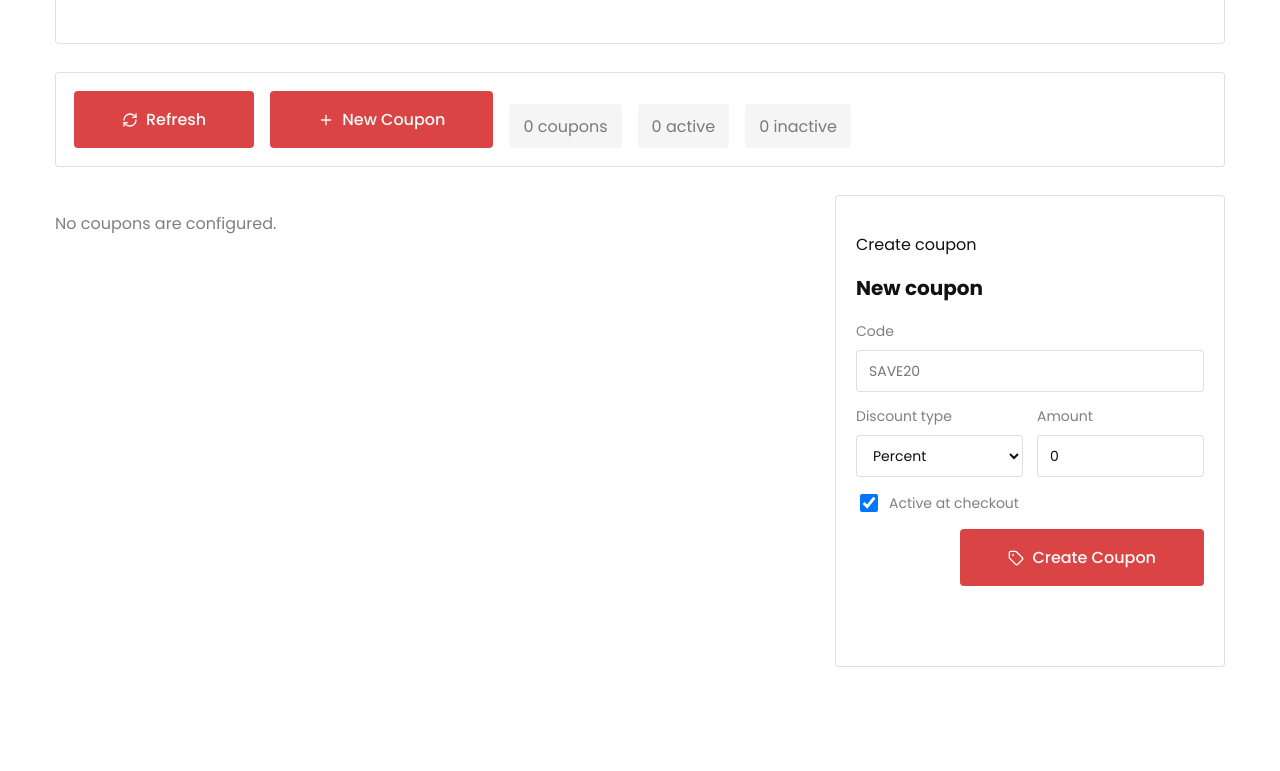
AdminCouponsPage › creates a fixed inactive coupon and renders the returned row
The image size is (1280, 771).
(page scrolled)
In the field labelled "Code": [1030, 371] box top-left (856, 350), bottom-right (1204, 392), type "vip25"
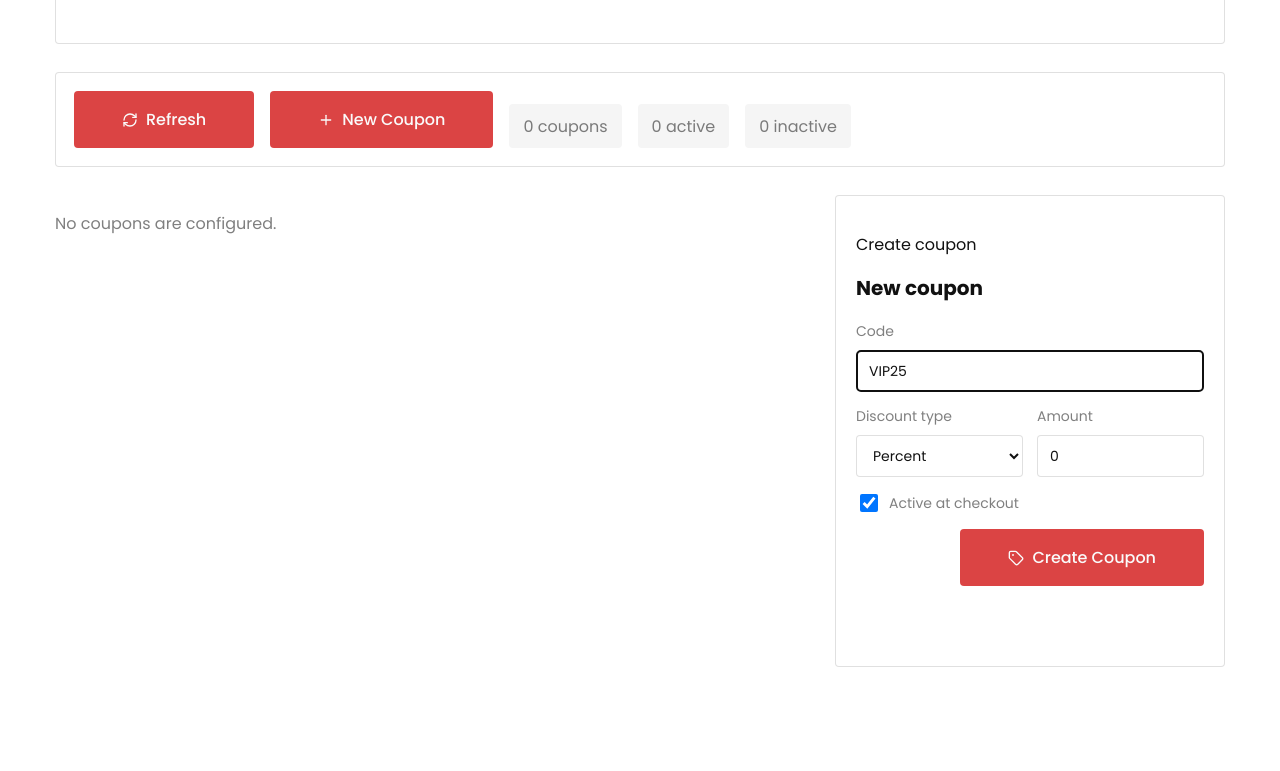
Select "Fixed amount" in the dropdown labelled "Discount type": [940, 456] box top-left (856, 435), bottom-right (1023, 477)
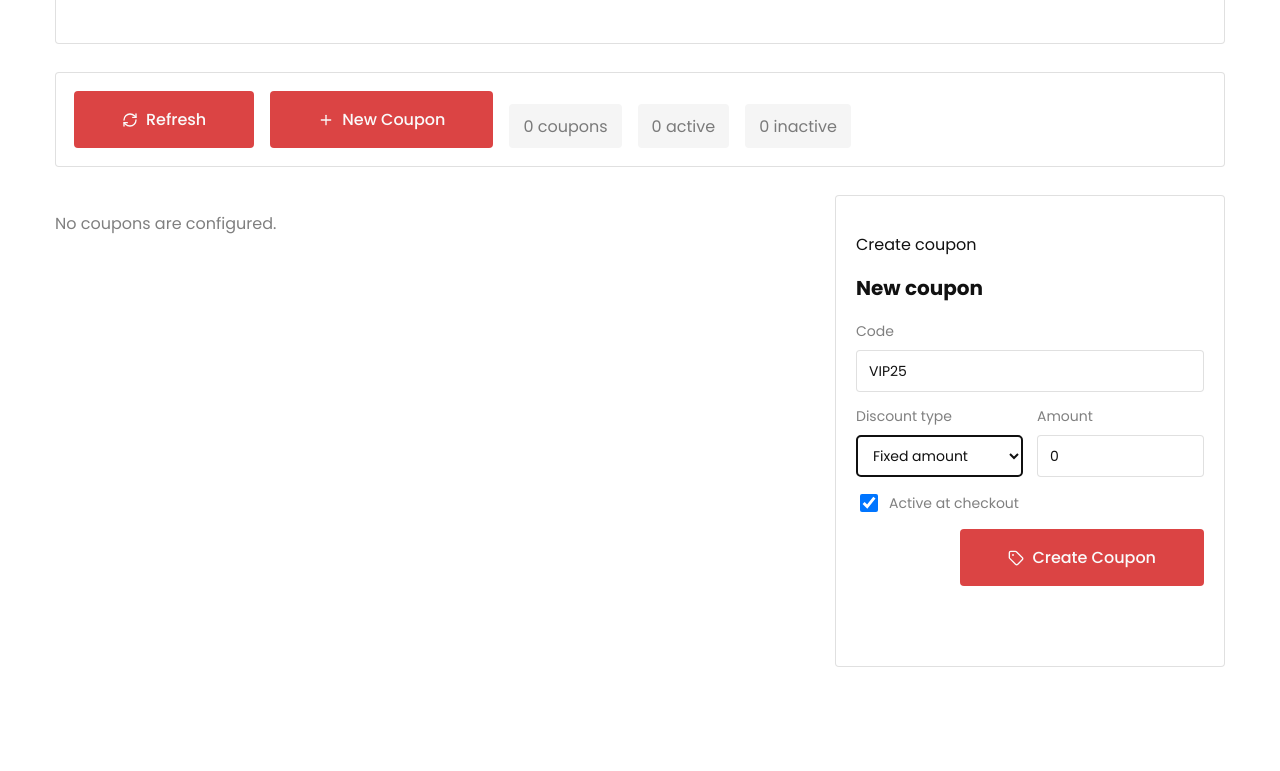
Replace the text in the number field labelled "Amount" with "25": [1120, 456] box top-left (1037, 435), bottom-right (1204, 477)
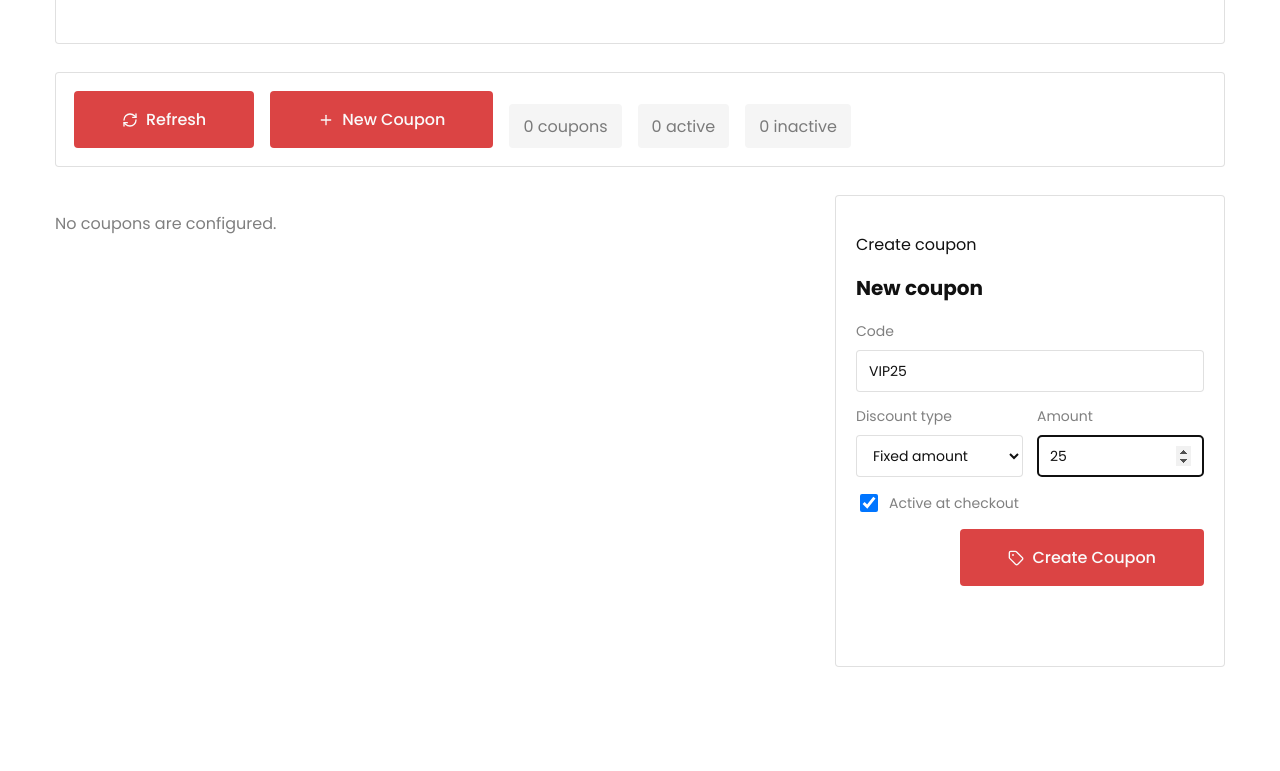
Click the checkbox labelled "Active at checkout": [869, 503] box top-left (860, 494), bottom-right (878, 512)
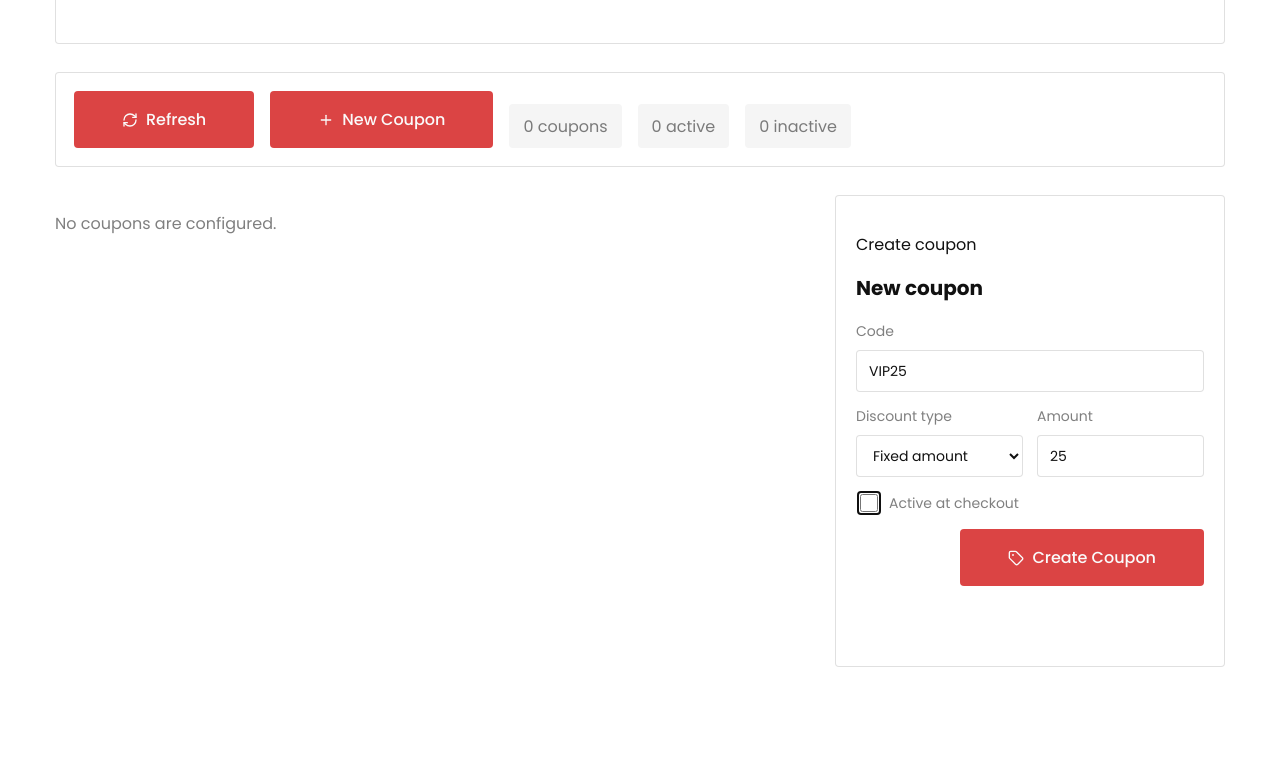
Click the button "Create Coupon": [1082, 558] box top-left (960, 529), bottom-right (1204, 586)
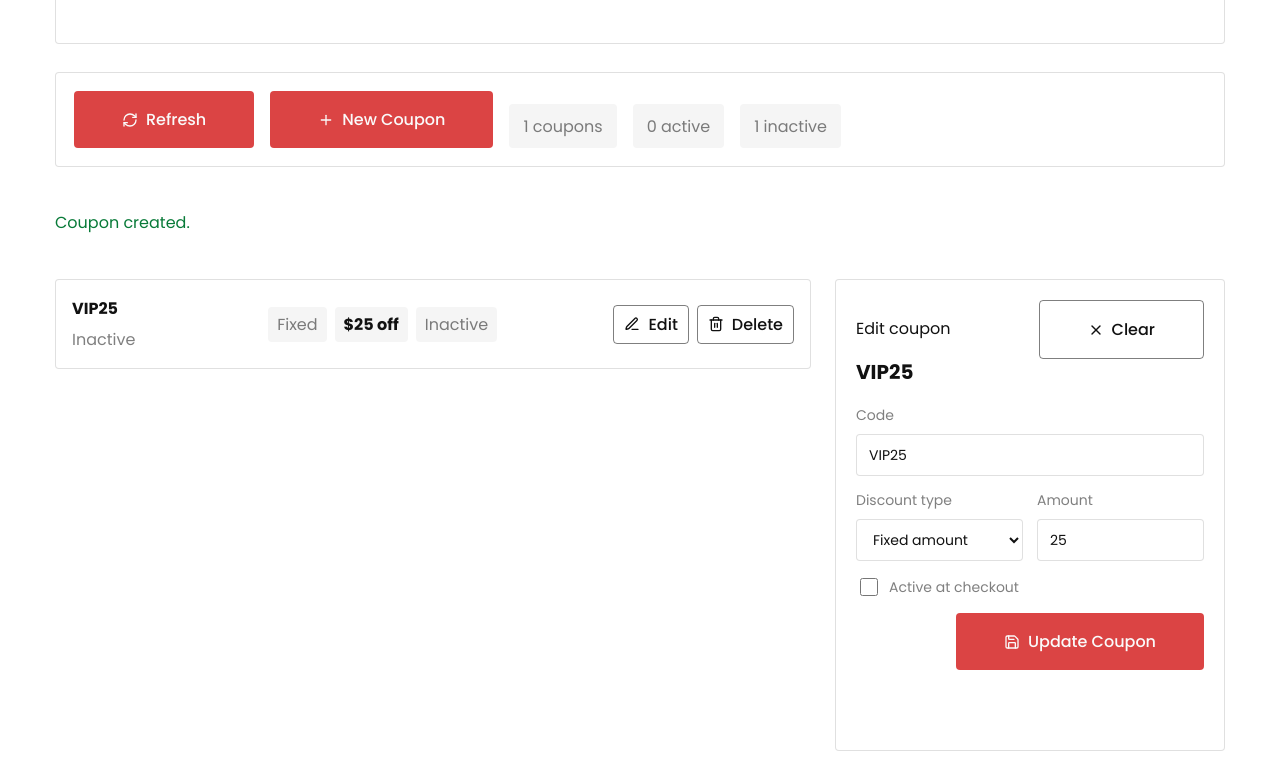
Result: the text "VIP25" is shown at top-left (72, 297), bottom-right (118, 320)
Result: the text "$25 off" is shown at top-left (335, 306), bottom-right (408, 342)
